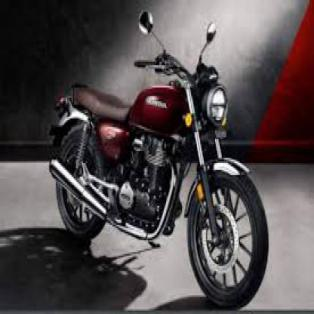Motocicleta: (39, 7, 270, 312)
